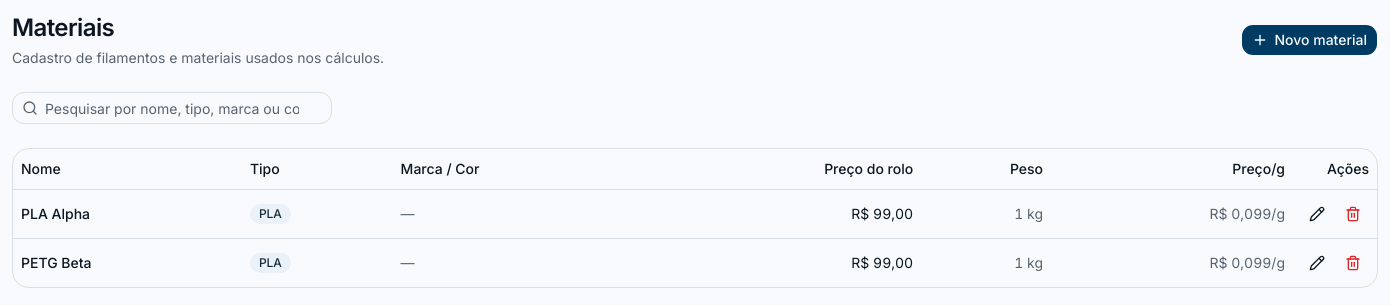
MaterialsPage › filtra a lista pela busca
This screenshot has width=1390, height=305.
Expected: the text "PLA Alpha" is shown, [13,189,242,238]
Expected: the text "PETG Beta" is shown, [13,238,242,286]
In the field with placeholder "Pesquisar por nome, tipo, marca ou cor…": (172, 108) [12,92,332,124], type "alpha"
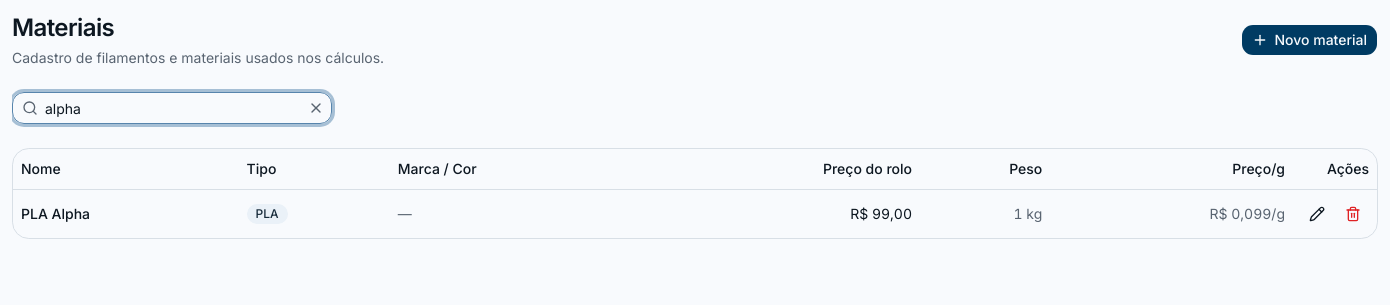
Expected: the text "PLA Alpha" is shown, [13,189,239,238]
Result: the text "PETG Beta" is gone
